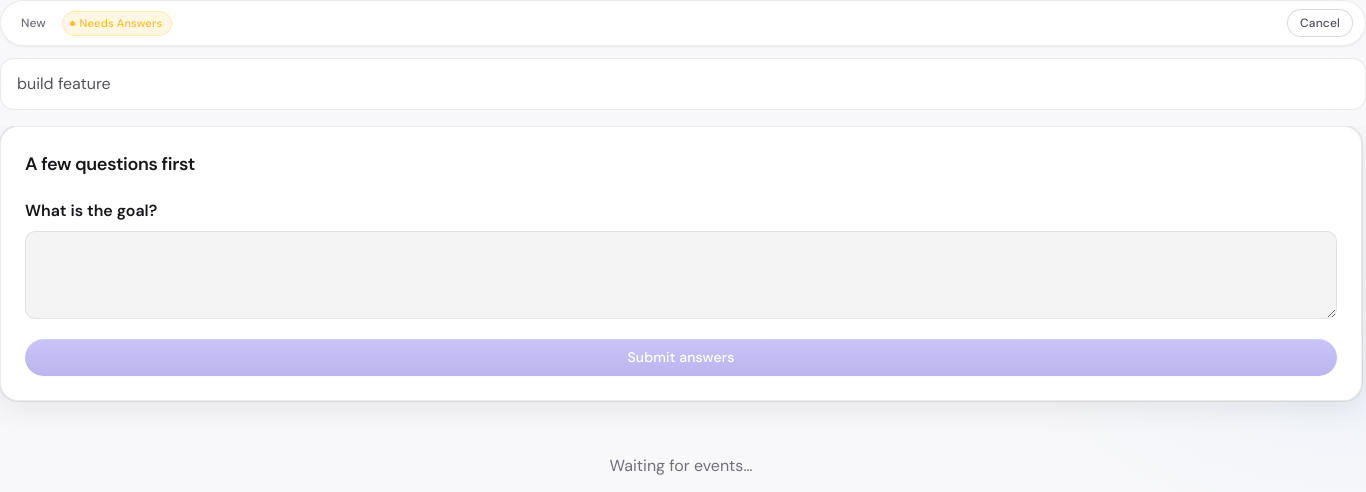
Test: RunDetail › clears clarify questions after successful submitClarify
Expected: the text "What is the goal?" is shown, top-left (25, 200), bottom-right (157, 221)
Type "ship faster" into the text box labelled "What is the goal?".
click(681, 275); type("ship faster")  # box top-left (25, 231), bottom-right (1337, 319)
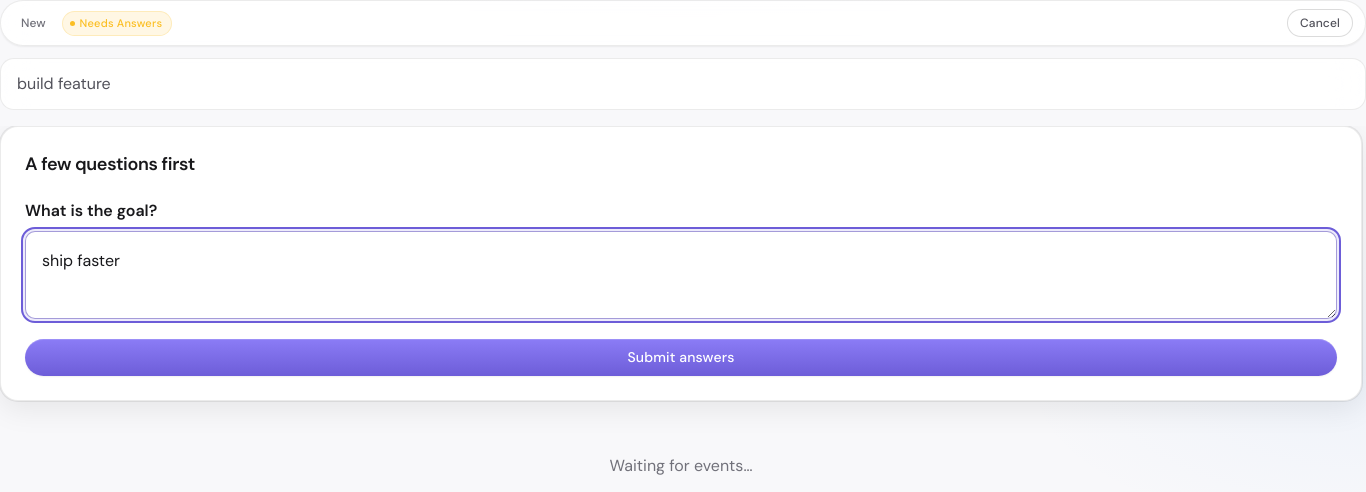
Click the button "Submit answers".
click(681, 358)  # box top-left (25, 339), bottom-right (1337, 376)
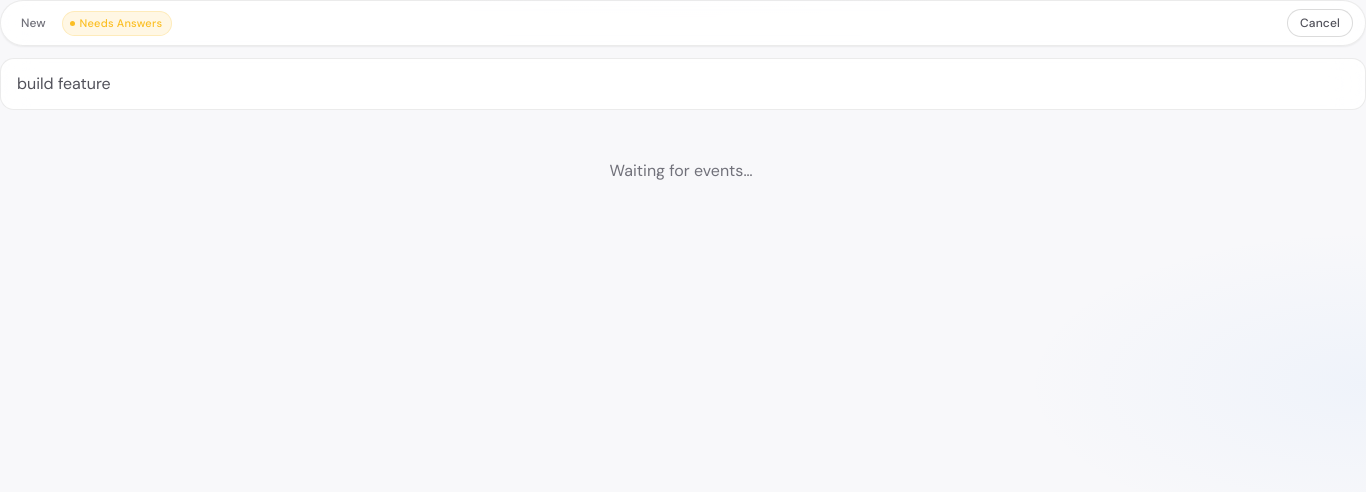
Now the text "What is the goal?" is gone
